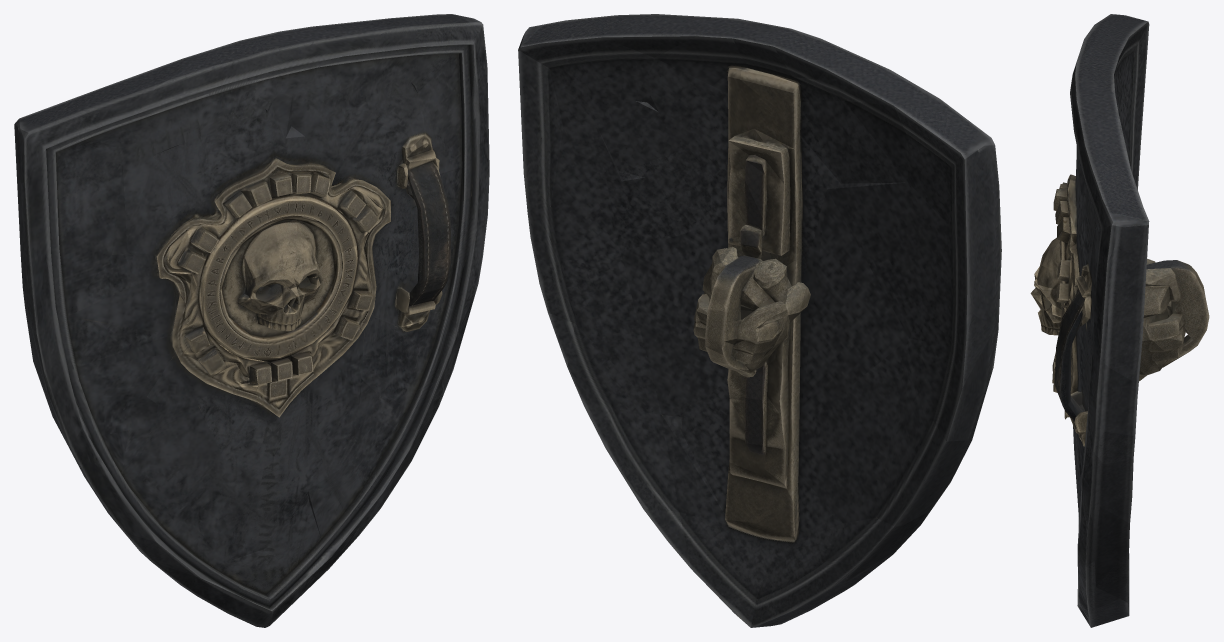
Rendered from Shield.glb.
The picture shows the model from 3 angles, left to right: view 1: azimuth 30°, elevation 25°; view 2: azimuth 150°, elevation 25°; view 3: azimuth 270°, elevation 25°; orthographic projection. The views are drawn at different scales.
Parts seen in each view (by area): view 1: output_unwrapped; view 2: output_unwrapped; view 3: output_unwrapped.
Boxes of the visible parts, x1,y1,x2,y2 form: output_unwrapped: (14,14,489,627); output_unwrapped: (518,14,1001,627); output_unwrapped: (1030,14,1209,627).
Size of the model in its own units: 0.4966 by 0.6 by 0.1774.
Materials: 1 (1 with a texture image).
